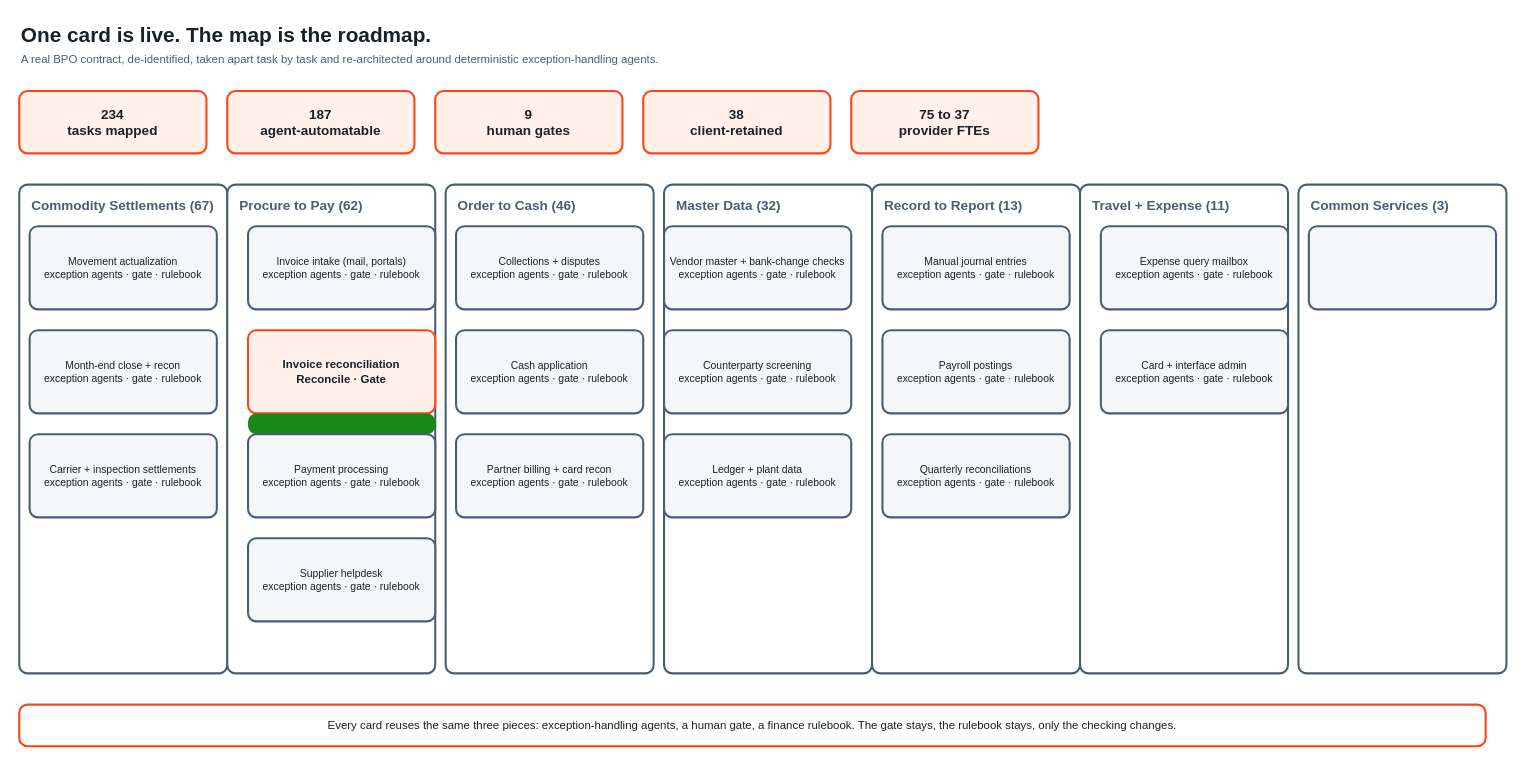
The diagram is 1525 pixels wide and 764 high, and some of its shapes have lost their labels. The shapes that lost their labels are listed below. From the top down, each one's centre as x and y in pixels, then its label:
At point (1402, 267): "Service + incident mgmt exception agents · gate · rulebook".
At point (341, 423): "LIVE: agent #1, 20+ governed runs".
